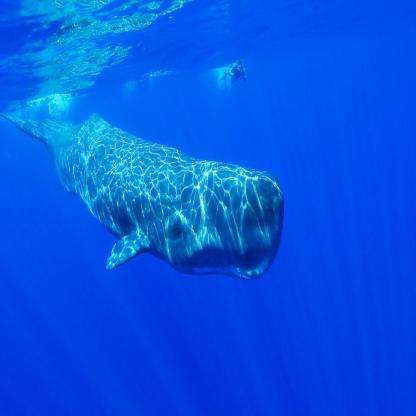sperm_whale: (22, 92, 306, 311)
